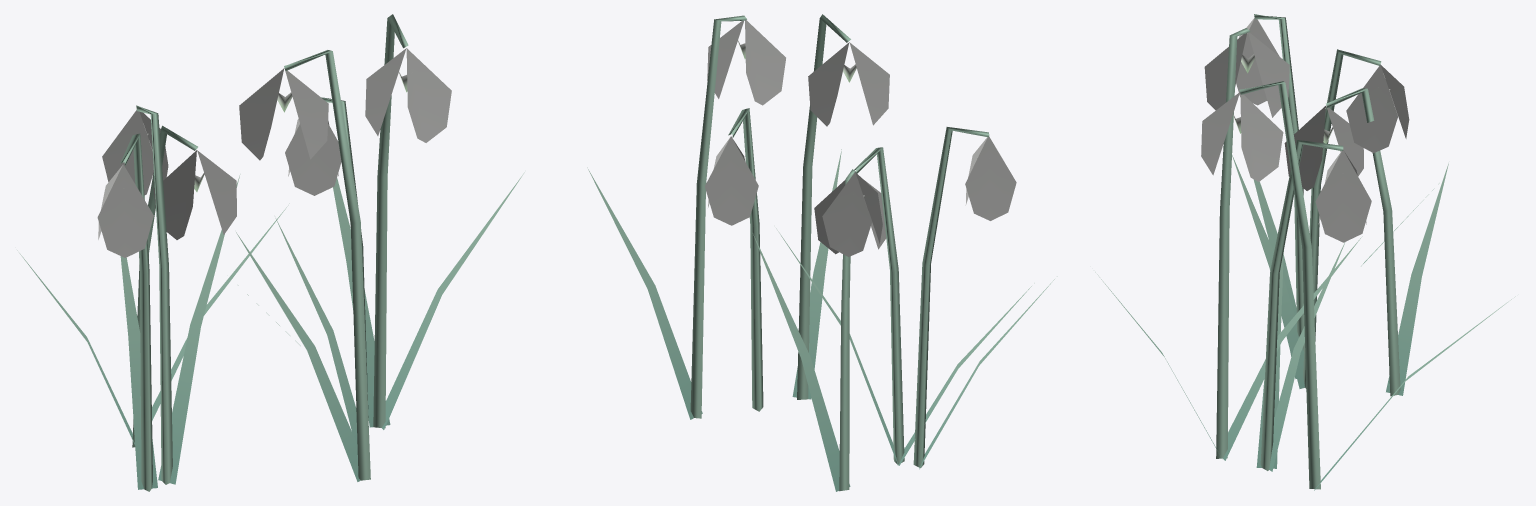
Rendered from snowdrop_patch_b_mid.glb.
The picture shows the model from 3 angles, left to right: view 1: azimuth 30°, elevation 25°; view 2: azimuth 150°, elevation 25°; view 3: azimuth 270°, elevation 25°; orthographic projection. The views are drawn at different scales.
Visible parts, largest first — view 1: soft; view 2: soft; view 3: soft.
Part boxes in pixels (left/top/right/bottom): soft: left=17, top=14, right=524, bottom=491; soft: left=587, top=14, right=1057, bottom=491; soft: left=1095, top=14, right=1515, bottom=490.
Size of the model in its own units: 0.4064 by 0.3411 by 0.327.
